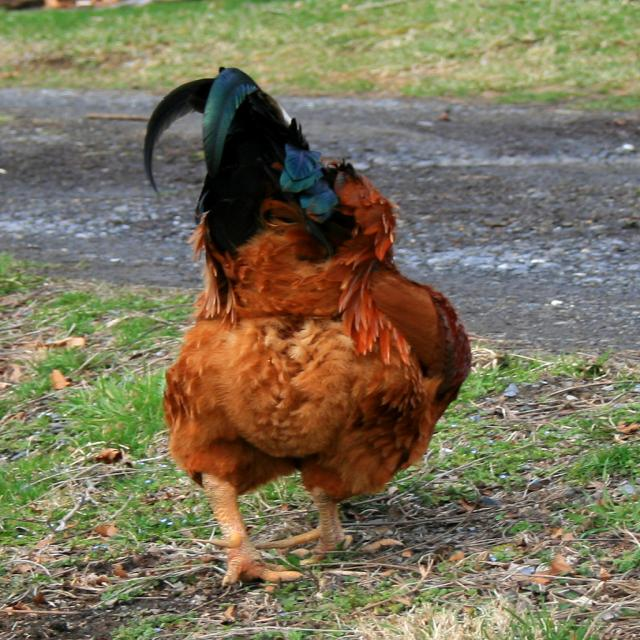Chicken: (131, 84, 457, 586)
